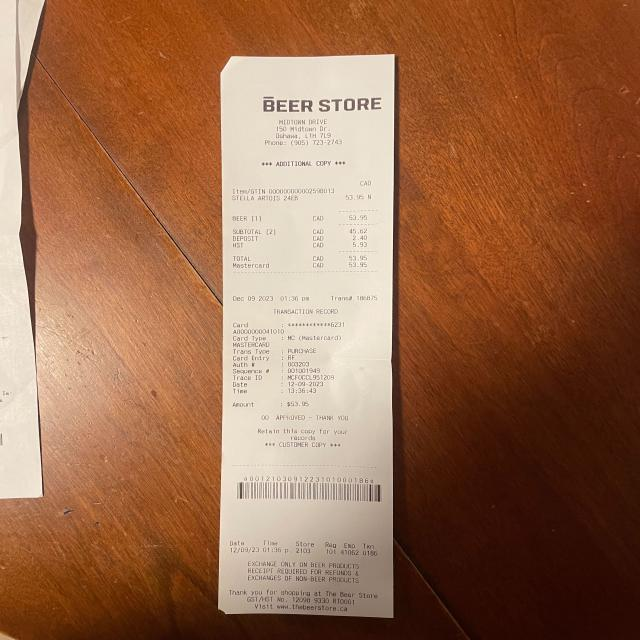item: (230, 212, 375, 225)
store_name: (260, 94, 385, 114)
total_amount: (229, 254, 375, 264)
transaction_date: (229, 293, 277, 304)
